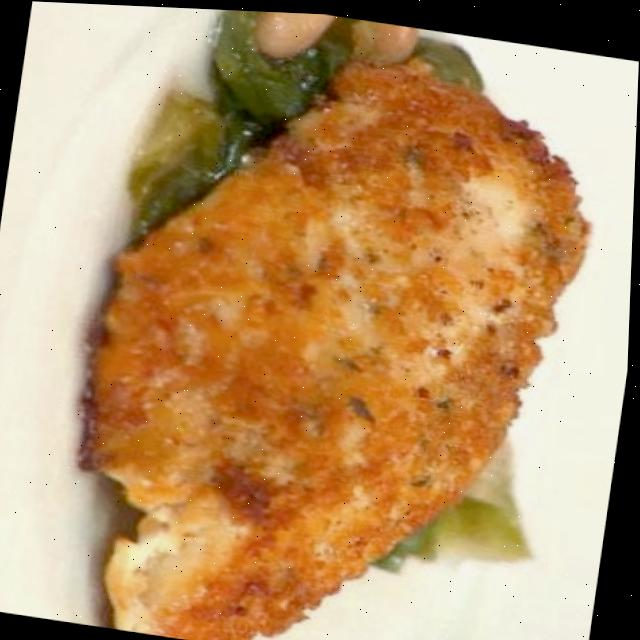鸡肉料理 含炸鸡: (42, 10, 624, 640)
